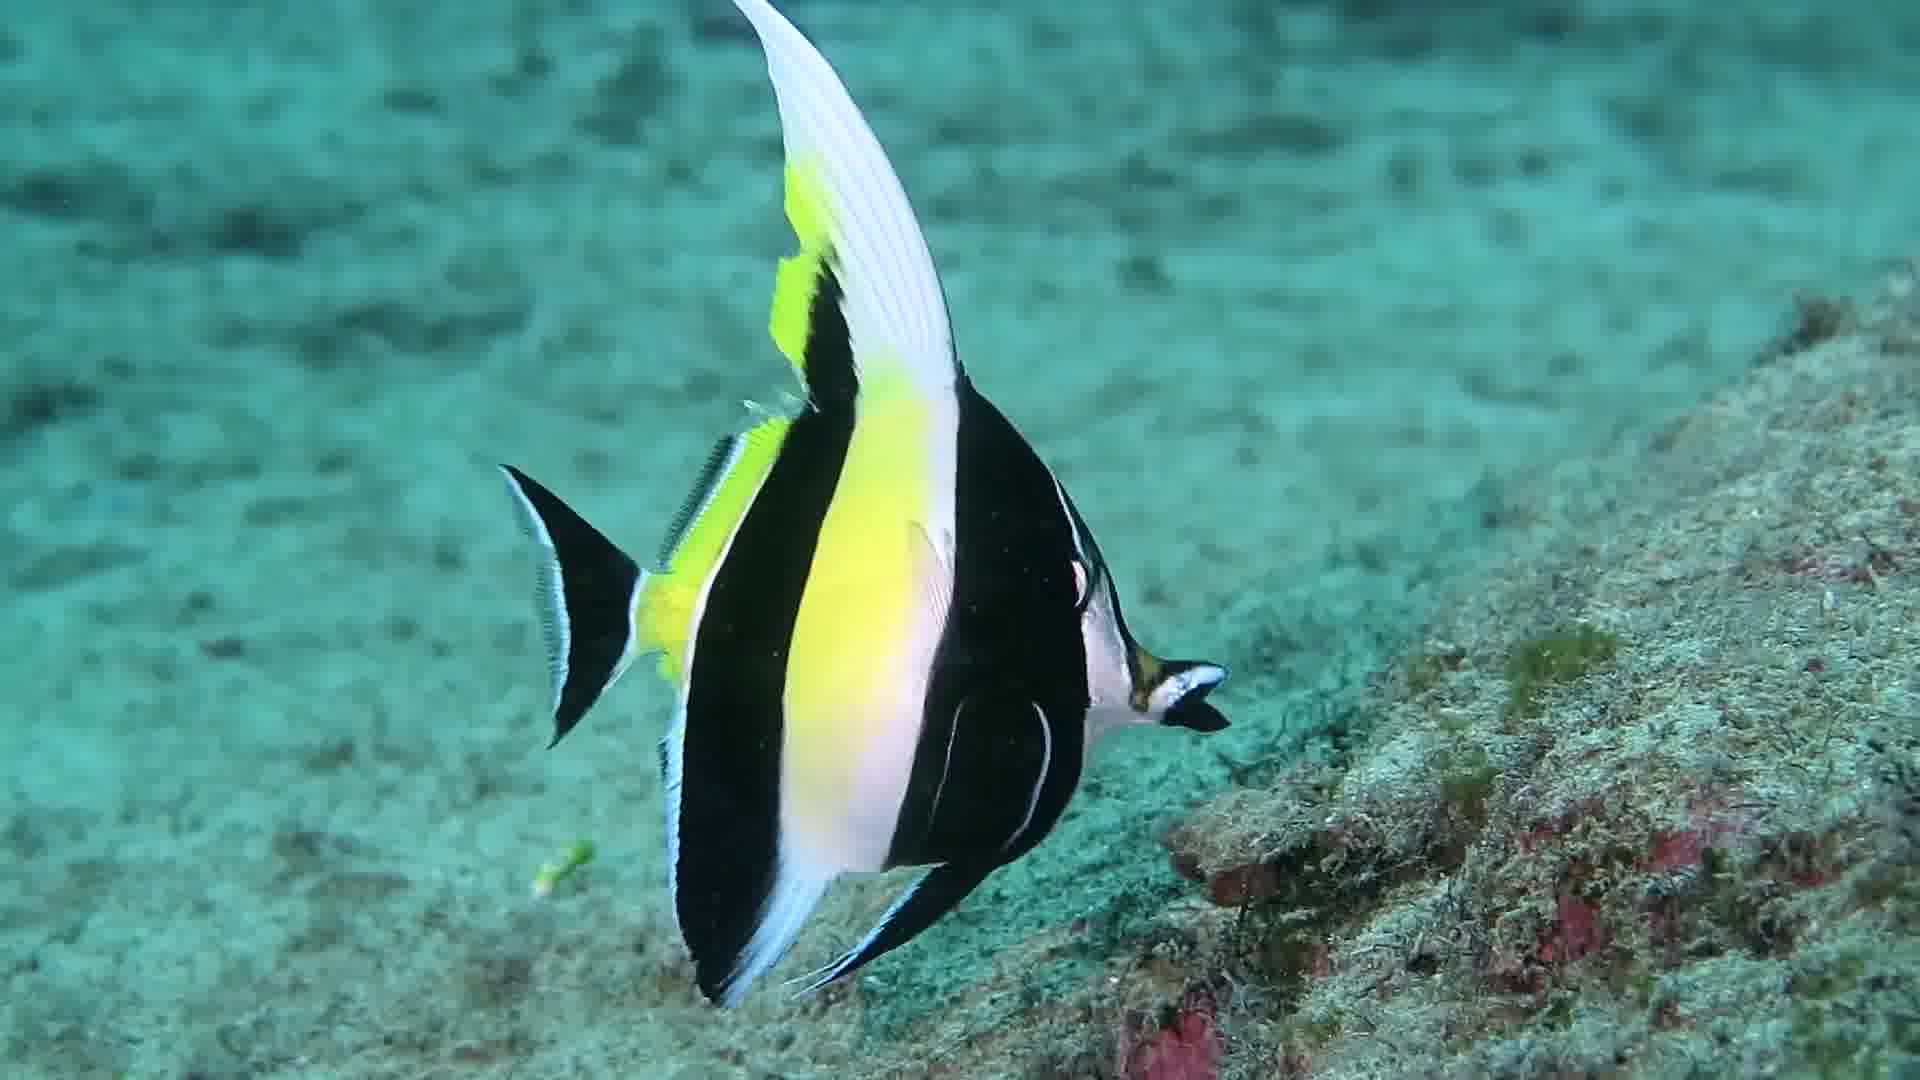Zanclus cornutus: (524, 207, 1216, 969)
